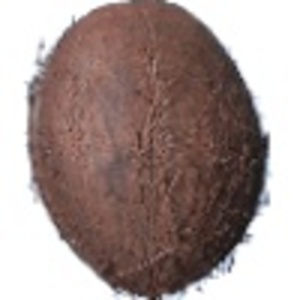coco: (27, 1, 273, 300)
